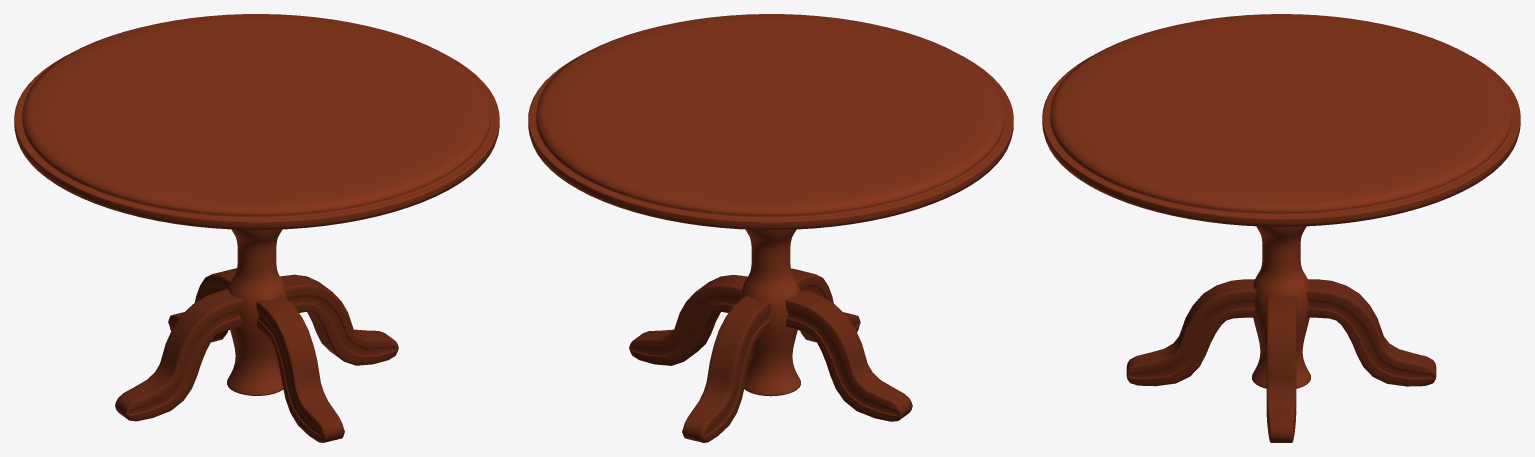
The model's file is Esstisch.fbx.
The picture shows the model from 3 angles, left to right: view 1: azimuth 30°, elevation 25°; view 2: azimuth 150°, elevation 25°; view 3: azimuth 270°, elevation 25°; orthographic projection.
Visible parts, largest first — view 1: pCylinder3; view 2: pCylinder3; view 3: pCylinder3.
Boxes of the visible parts, x1=… form: pCylinder3: x1=14, y1=14, x2=499, y2=442; pCylinder3: x1=528, y1=14, x2=1013, y2=442; pCylinder3: x1=1042, y1=14, x2=1520, y2=442.
Size of the model in its own units: 345 by 218 by 345.
